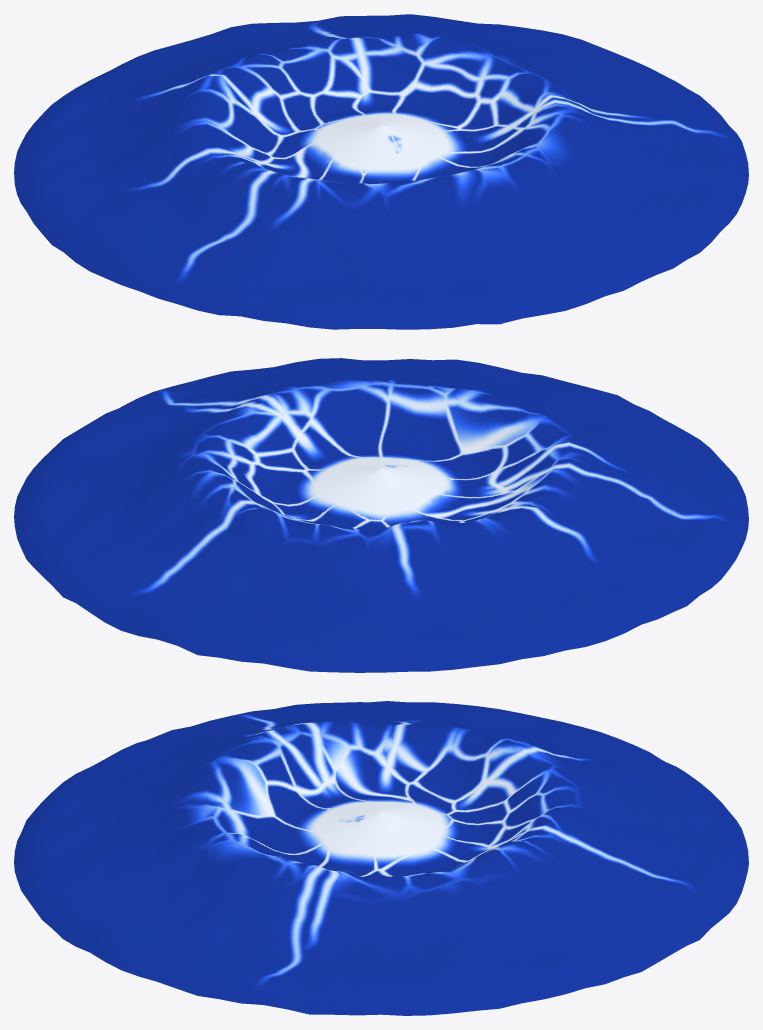
Rendered from magma_azure.glb.
3 renders of one model, top to bottom at view 1: azimuth 30°, elevation 25°; view 2: azimuth 150°, elevation 25°; view 3: azimuth 270°, elevation 25°, orthographic.
Parts seen in each view (by area): view 1: magma; view 2: magma; view 3: magma.
Boxes of the visible parts, x1,y1,x2,y2 form: magma: [14, 14, 748, 329]; magma: [14, 358, 748, 672]; magma: [14, 701, 748, 1015].
Bounding box in the file's own units: 4 × 0.4326 × 4.
Materials: 1 (1 with a texture image).
